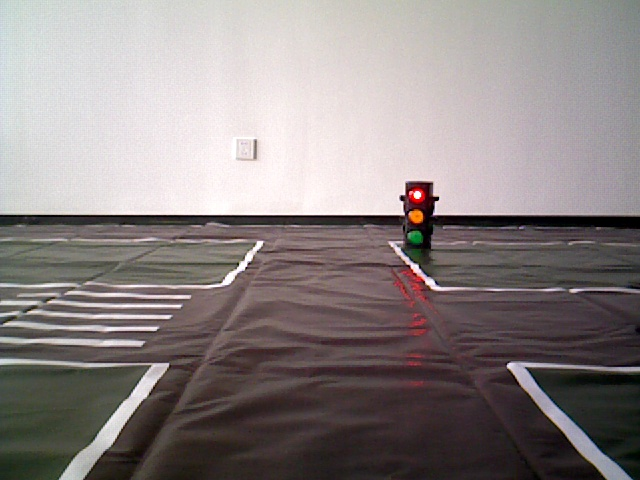red: (404, 182, 426, 247)
